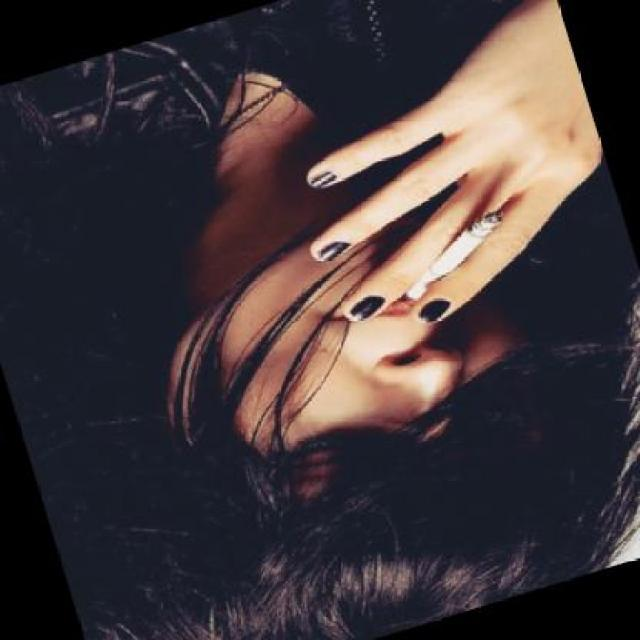smoke: (380, 202, 522, 306)
